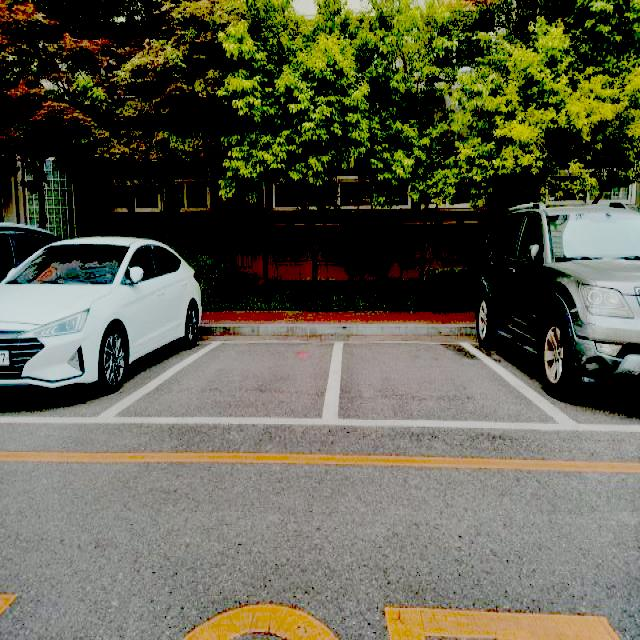empty: (334, 342, 562, 431), (111, 345, 341, 429)
occupied: (3, 239, 207, 413), (478, 205, 640, 399)
